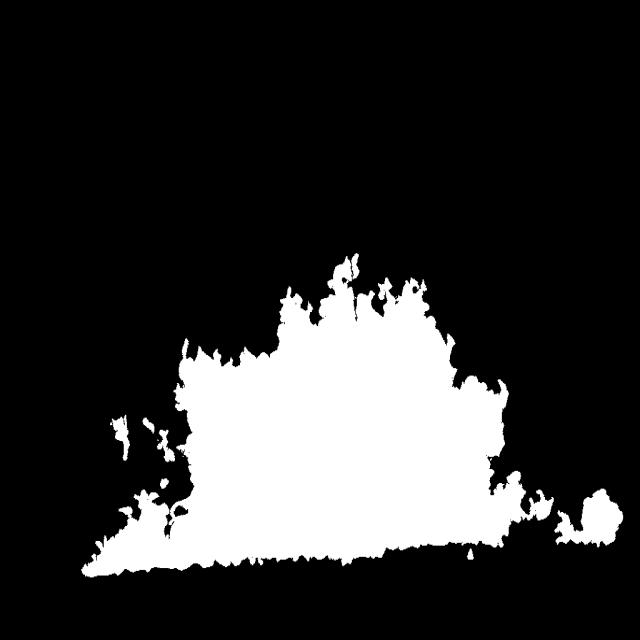fire: (48, 246, 630, 570)
